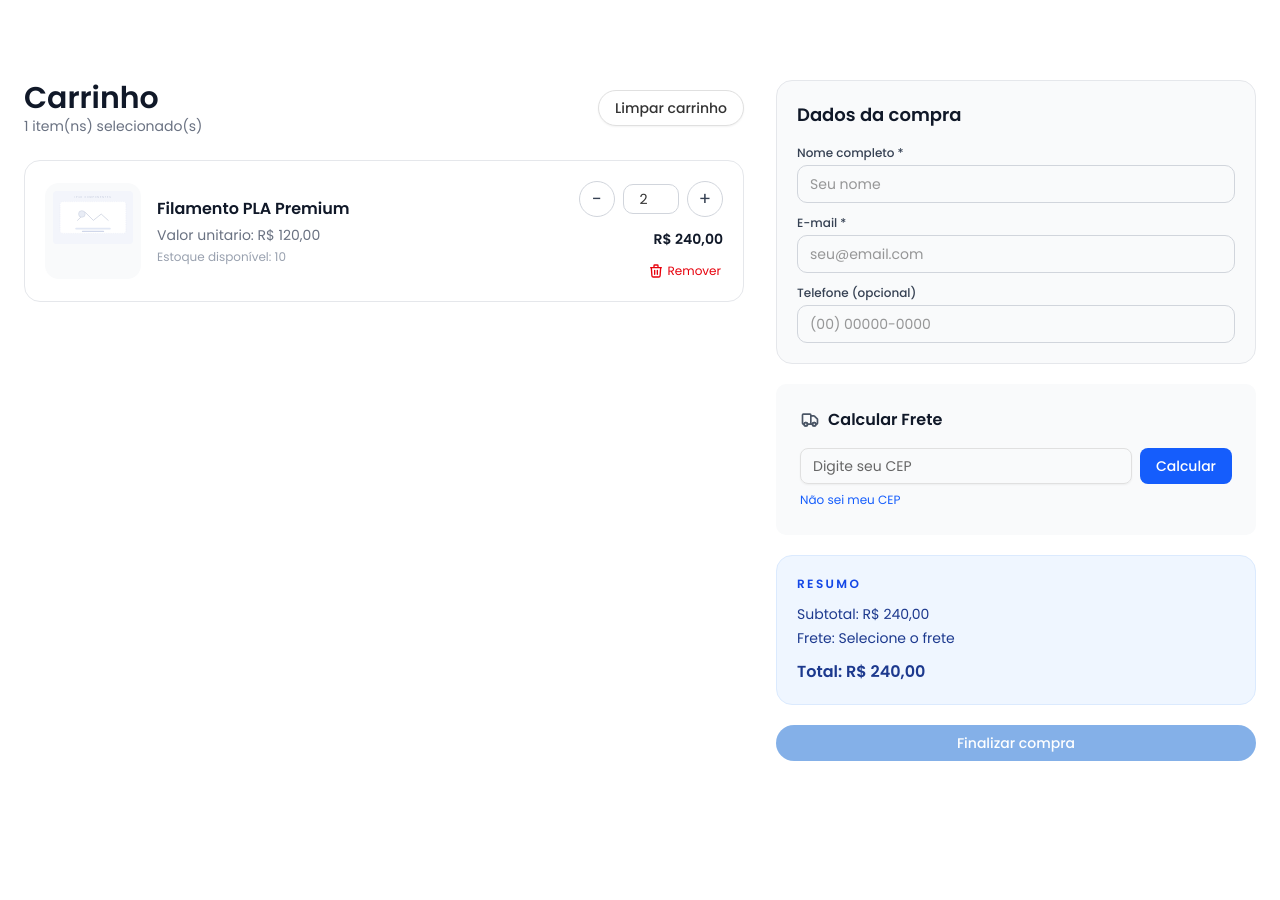
Test case: CarrinhoPage (Cart UI & Integration) › deve remover item ao clicar no botao de remover
Click the button with aria-label "Remover Filamento PLA Premium do carrinho" at {"x": 684, "y": 271}, box [646,261,723,281]
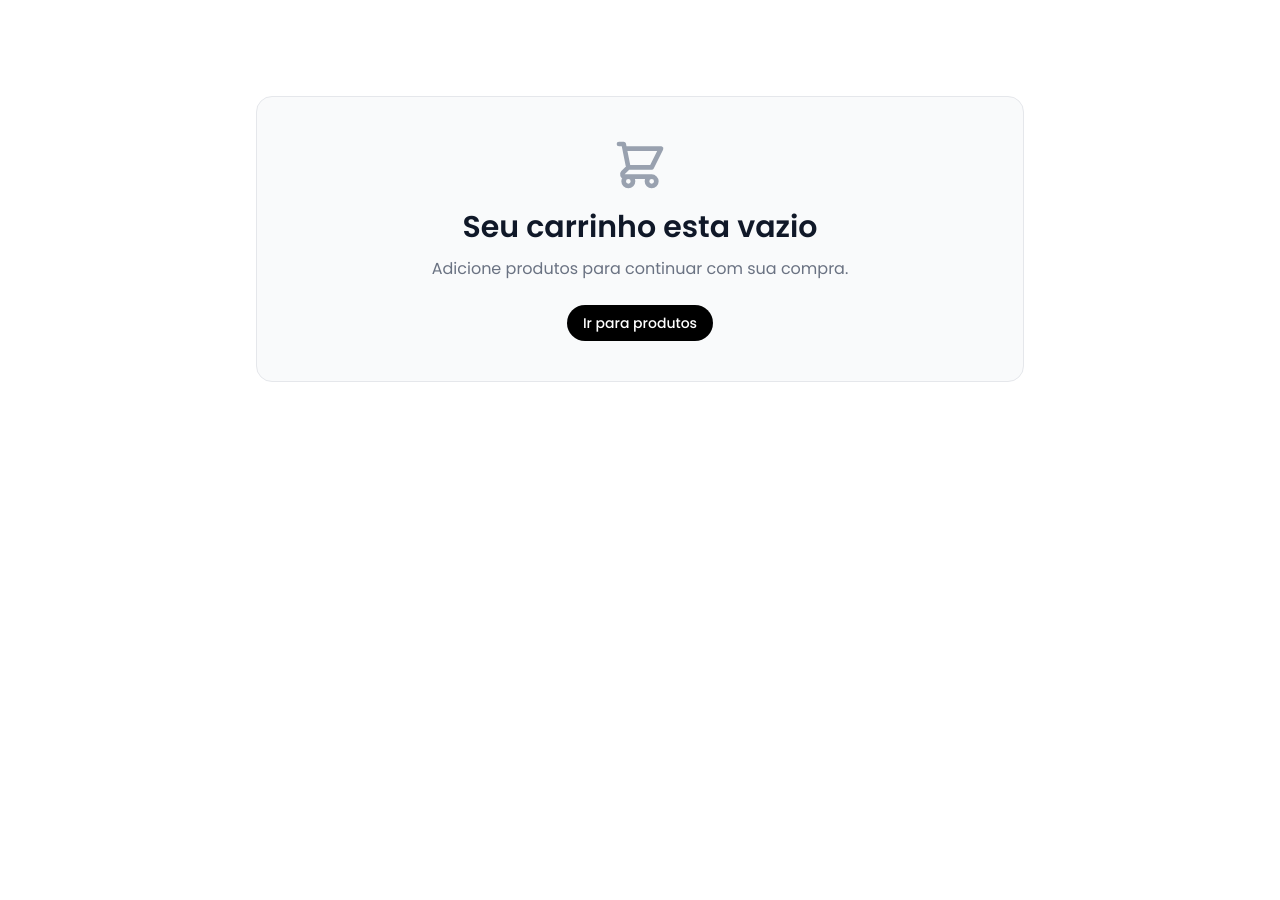
Check: the heading "Seu carrinho esta vazio" is shown, box [462,206,817,248]
